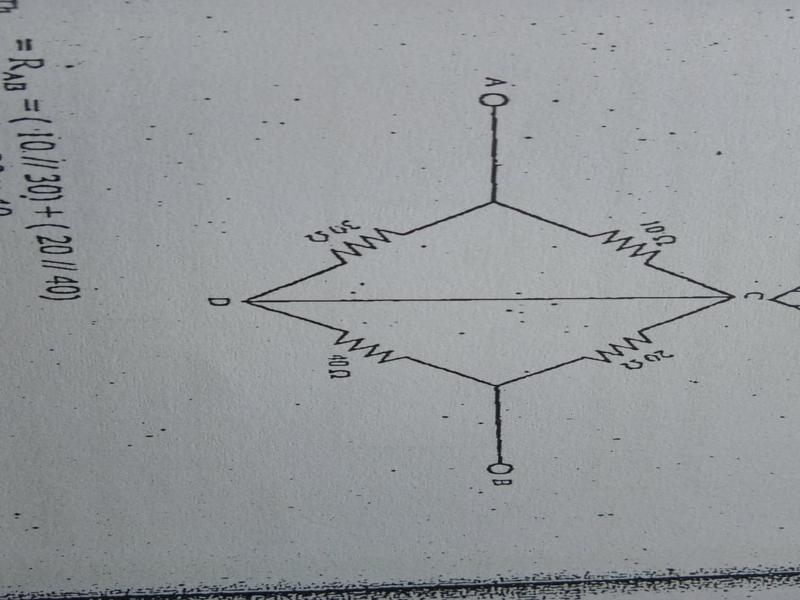resistor: (314, 320, 431, 372), (308, 222, 416, 273), (571, 222, 679, 273), (574, 323, 666, 375)
